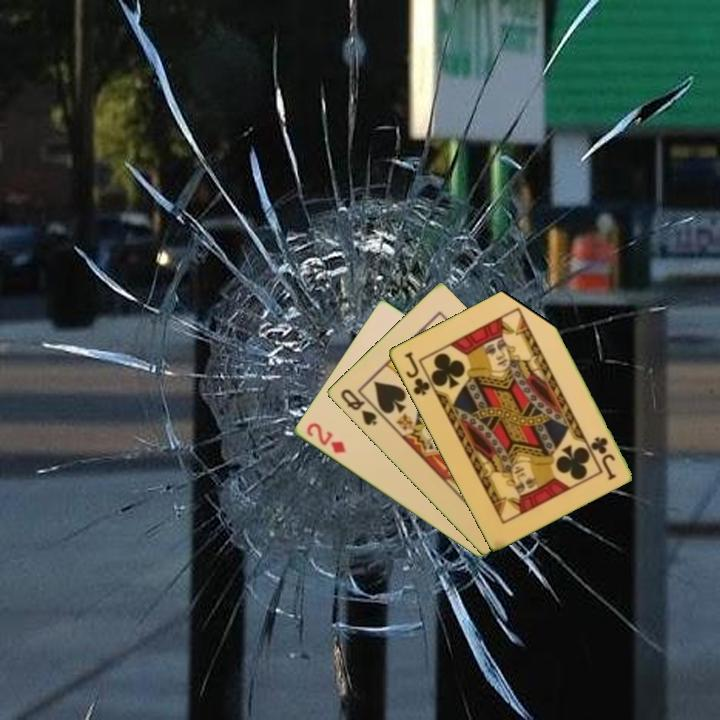2d: (302, 419, 348, 456)
Jc: (401, 348, 433, 398), (587, 433, 619, 483)
Qs: (337, 385, 380, 429)
